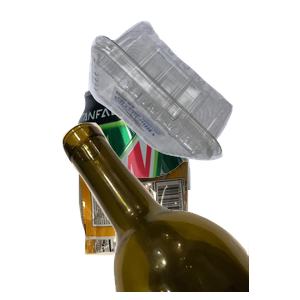glass: (60, 120, 300, 300)
metal: (74, 74, 257, 254)
plastic: (86, 18, 300, 171)
trash: (76, 159, 259, 300)
